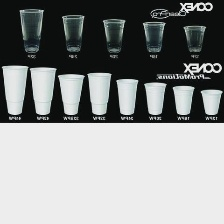glass: (0, 61, 31, 117), (30, 64, 59, 117), (53, 71, 86, 117), (17, 7, 46, 57), (84, 71, 114, 117), (141, 79, 168, 119), (60, 12, 86, 53), (101, 14, 127, 55), (114, 76, 141, 115), (137, 20, 167, 54), (180, 22, 207, 53), (196, 85, 222, 117), (171, 83, 195, 117)
